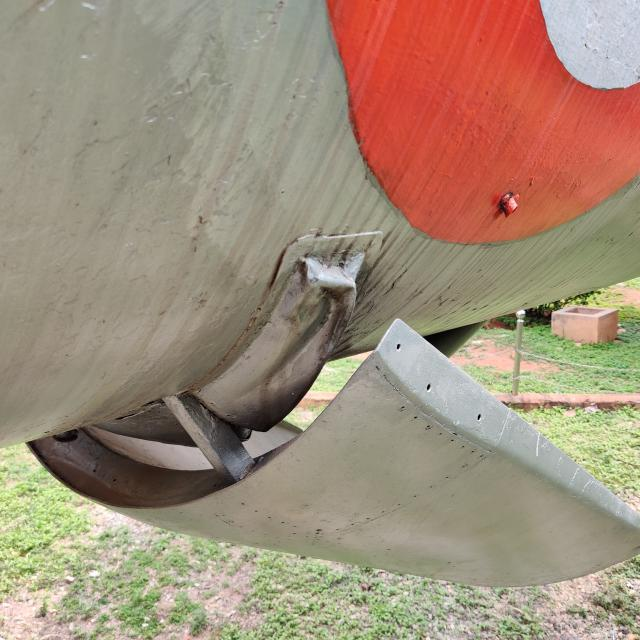dent: (256, 250, 373, 405)
